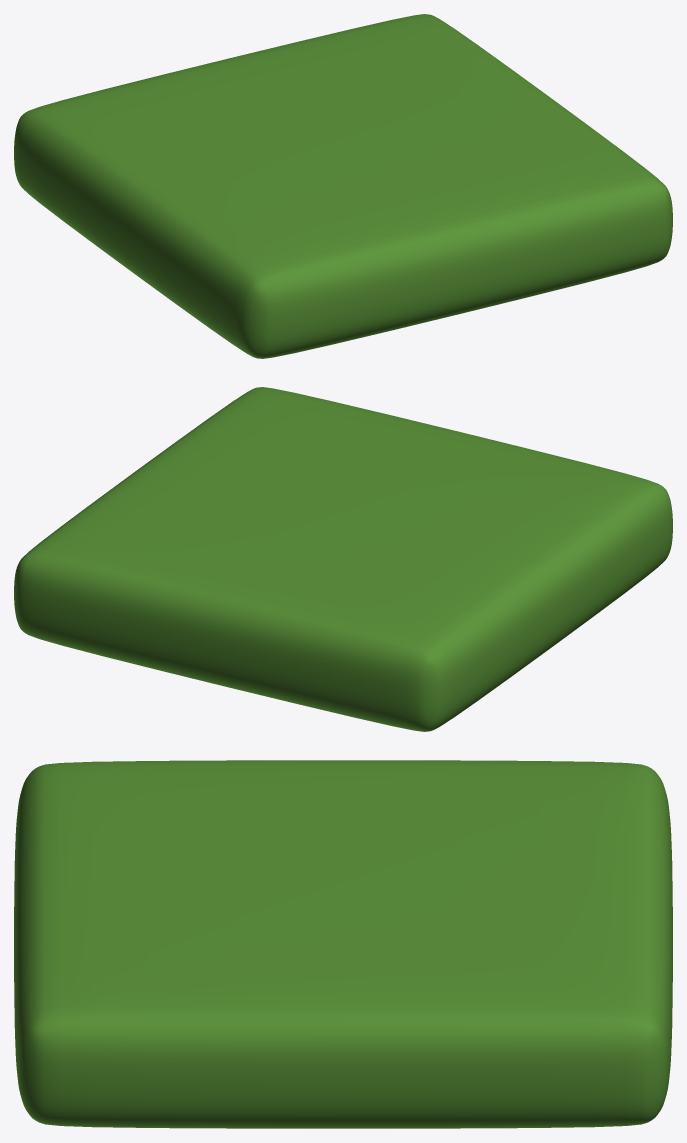
The model's file is Landing Pad.fbx.
3 renders of one model, top to bottom at view 1: azimuth 30°, elevation 25°; view 2: azimuth 150°, elevation 25°; view 3: azimuth 270°, elevation 25°, orthographic. The views are drawn at different scales.
Visible parts, largest first — view 1: Launch Pad; view 2: Launch Pad; view 3: Launch Pad.
Boxes of the visible parts, x1,y1,x2,y2 form: Launch Pad: (14, 14, 672, 358); Launch Pad: (14, 387, 672, 731); Launch Pad: (14, 760, 672, 1128).
Size of the model in its own units: 200 by 41.59 by 200.
